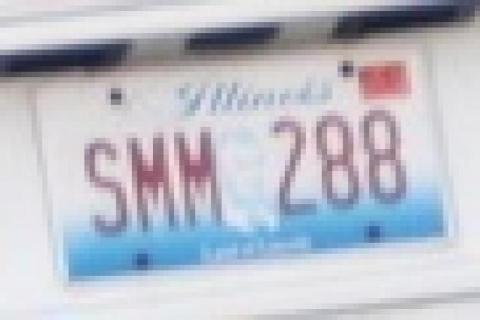LicensePlate: (18, 36, 458, 286)
